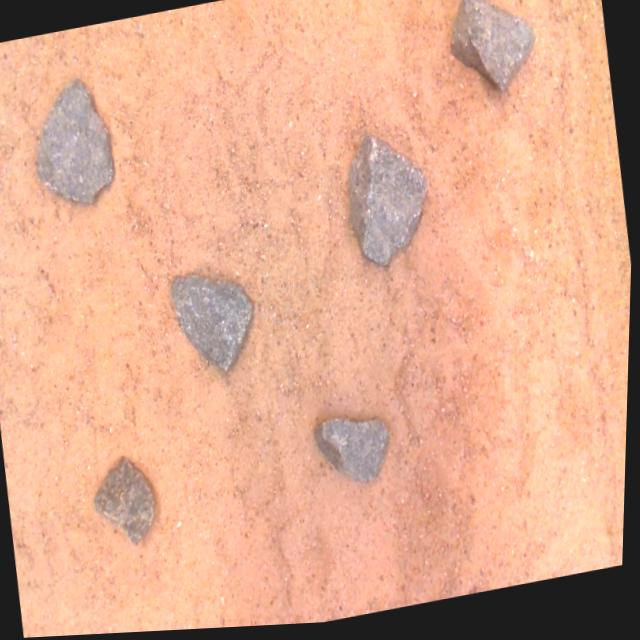rock: (349, 137, 428, 267), (38, 79, 114, 202), (452, 0, 535, 95), (172, 277, 254, 372), (97, 458, 157, 544), (317, 421, 391, 485)
